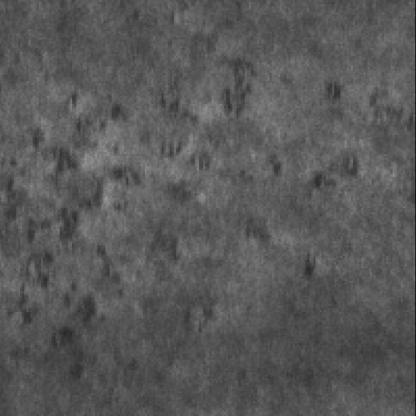rolled-in_scale: (2, 83, 229, 354), (314, 83, 416, 191)
